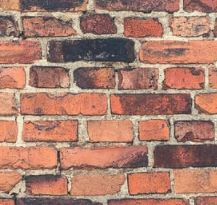brick: (21, 92, 106, 116), (140, 39, 217, 64), (58, 146, 149, 166), (109, 94, 192, 115), (151, 145, 216, 167), (20, 13, 77, 37), (1, 145, 58, 167), (67, 173, 122, 194), (23, 119, 77, 139), (85, 119, 134, 141), (124, 172, 173, 194), (1, 39, 43, 63), (173, 170, 216, 193), (75, 67, 116, 90), (173, 119, 215, 141), (164, 67, 205, 89), (28, 67, 70, 88), (171, 15, 209, 36), (26, 174, 66, 193), (127, 15, 163, 36), (119, 69, 158, 88), (78, 15, 116, 33), (95, 1, 178, 9), (138, 120, 167, 141), (1, 67, 27, 90), (1, 1, 84, 8), (185, 1, 214, 10)
